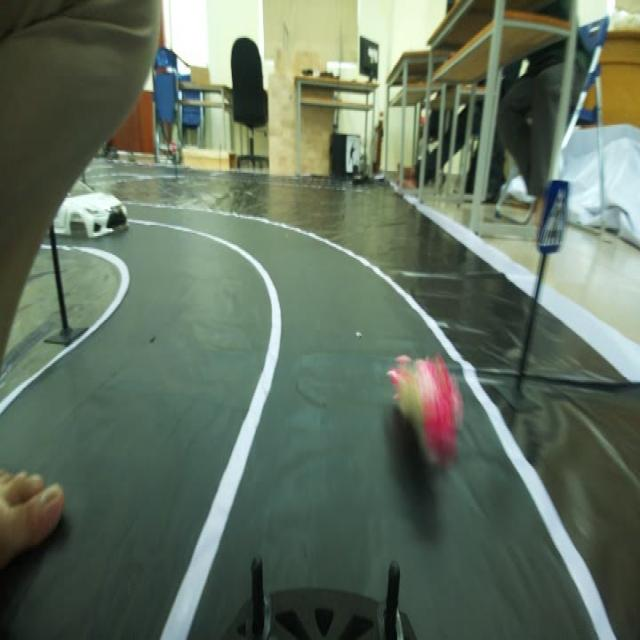crosswalk: (538, 175, 578, 261)
